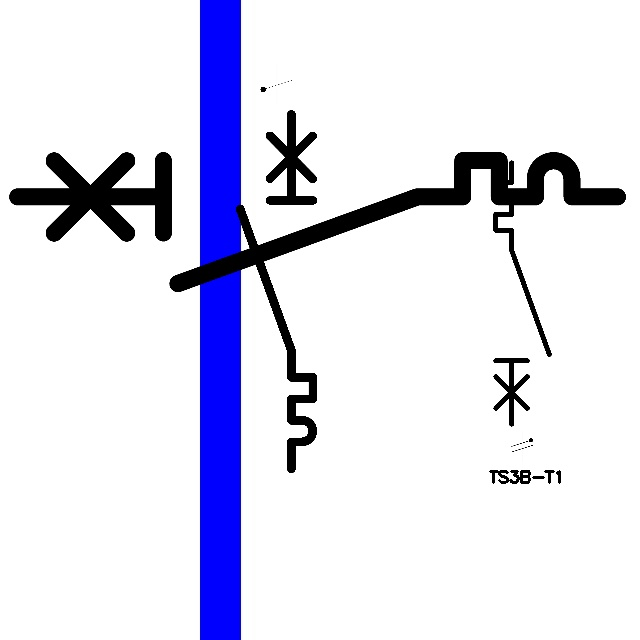interruptor_termomagnetico: (2, 145, 633, 299), (231, 105, 322, 478), (489, 156, 556, 431)
